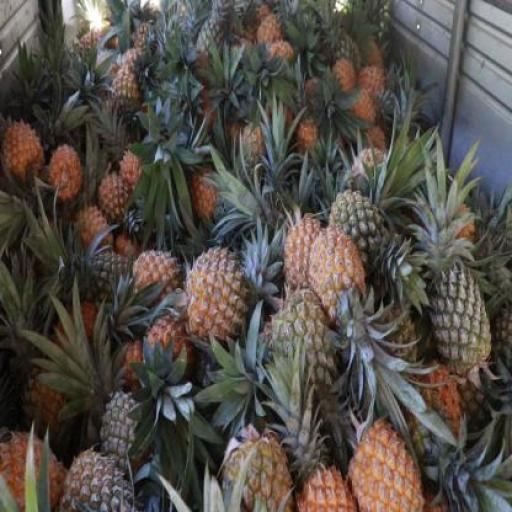------------------------------: (270, 293, 338, 393), (328, 192, 392, 290), (22, 364, 72, 440), (110, 67, 142, 126)
Pineapple - v8 v1: (347, 423, 426, 511), (308, 232, 371, 334), (184, 248, 247, 343), (0, 426, 68, 512), (282, 218, 330, 306), (143, 318, 189, 397), (131, 251, 174, 307), (2, 121, 40, 181), (96, 168, 134, 222), (48, 146, 80, 206)
